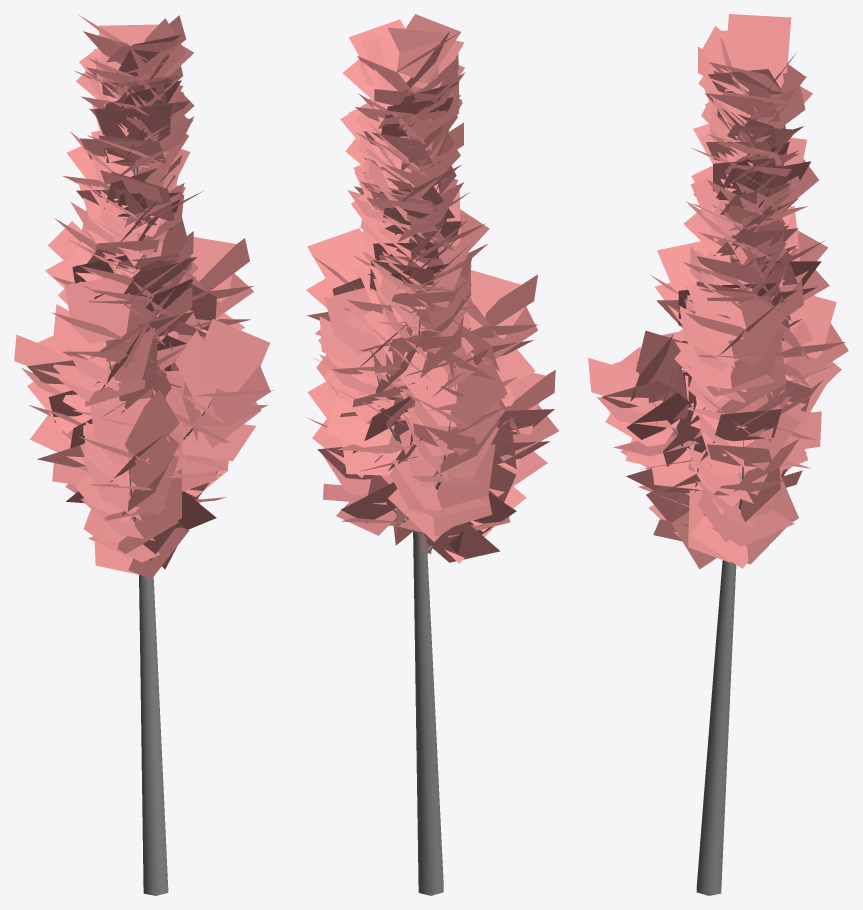
The model's file is SM_tree2.fbx.
3 renders of one model, left to right at view 1: azimuth 30°, elevation 25°; view 2: azimuth 150°, elevation 25°; view 3: azimuth 270°, elevation 25°, orthographic. The views are drawn at different scales.
Visible parts, largest first — view 1: SM_tree2; view 2: SM_tree2; view 3: SM_tree2.
Boxes of the visible parts, bbox=[...] form: SM_tree2: bbox=[14, 14, 274, 895]; SM_tree2: bbox=[306, 14, 558, 895]; SM_tree2: bbox=[588, 14, 848, 895].
Bounding box in the file's own units: 201 × 771 × 213.
